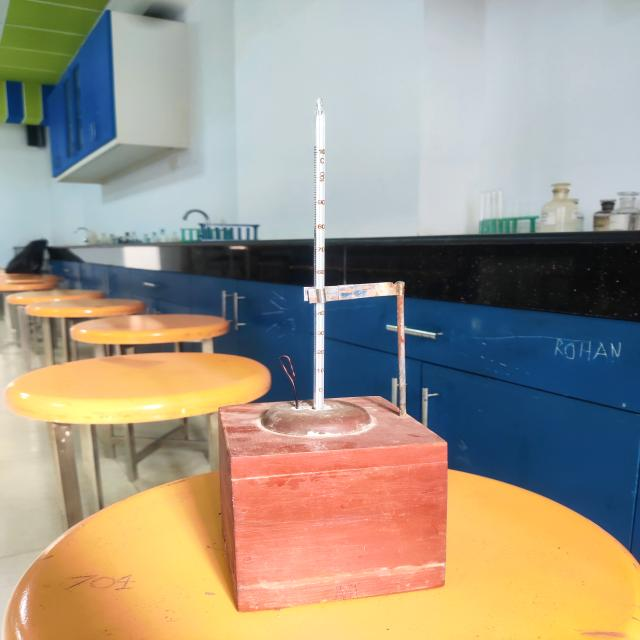Calorimeter: (191, 81, 465, 624)
